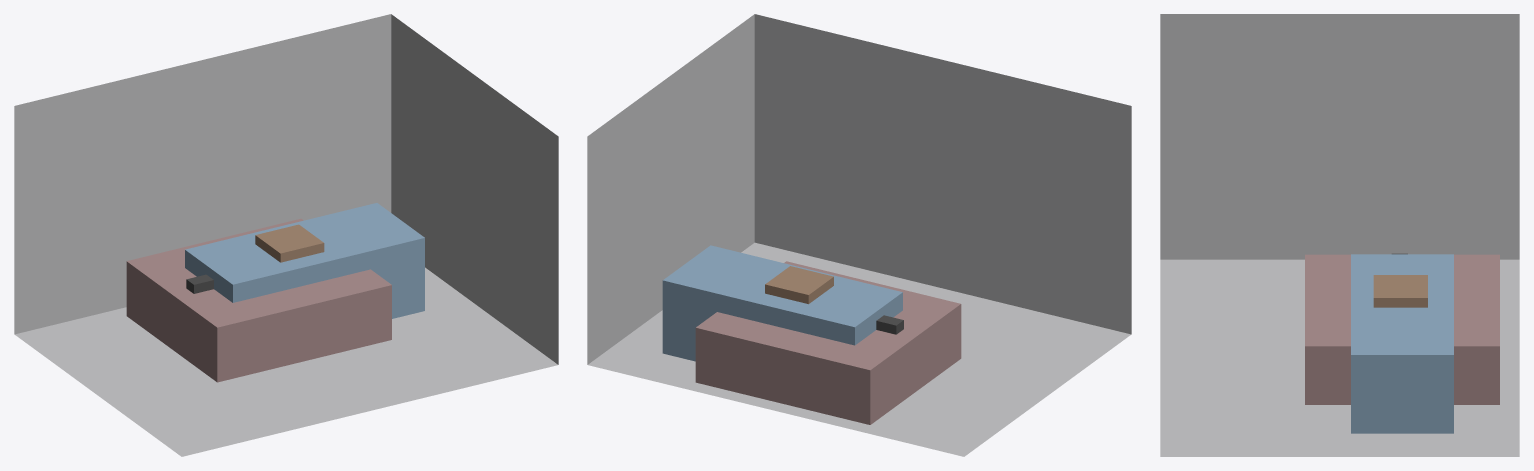
Rendered from current_layout.glb.
3 renders of one model, left to right at view 1: azimuth 30°, elevation 25°; view 2: azimuth 150°, elevation 25°; view 3: azimuth 270°, elevation 25°, orthographic. The views are drawn at different scales.
Visible parts, largest first — view 1: room, bed, couch, chair; view 2: room, bed, couch, chair; view 3: room, couch, bed, chair.
Boxes of the visible parts, box(x1,y1,x2,y2) form: room: box(14, 14, 558, 456); bed: box(126, 218, 391, 382); couch: box(185, 203, 424, 318); chair: box(255, 224, 324, 262); room: box(587, 14, 1131, 456); bed: box(695, 261, 961, 424); couch: box(662, 245, 902, 361); chair: box(765, 266, 833, 304); room: box(1160, 14, 1519, 456); couch: box(1351, 254, 1453, 433); bed: box(1305, 254, 1499, 404); chair: box(1373, 275, 1427, 307).
Size of the model in its own units: 4.31 by 2.5 by 3.32.
